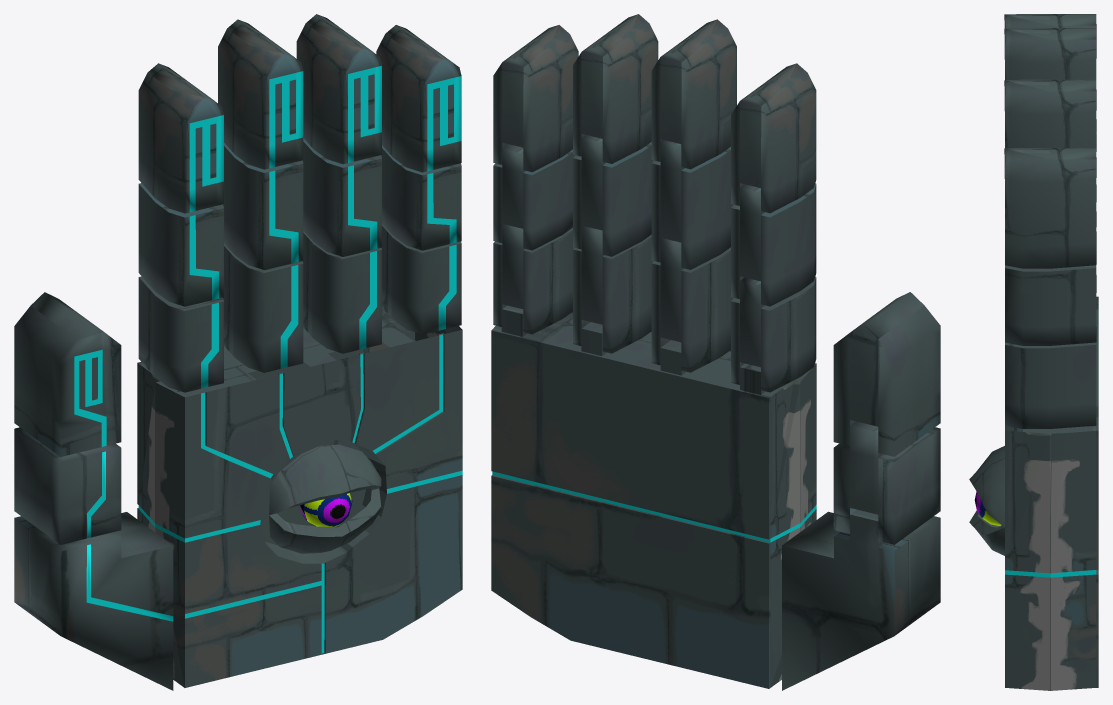
The model's file is Left hand.fbx.
The picture shows the model from 3 angles, left to right: view 1: azimuth 30°, elevation 25°; view 2: azimuth 150°, elevation 25°; view 3: azimuth 270°, elevation 25°; orthographic projection.
Visible parts, largest first — view 1: Hand, Muis, DuimVK2, WijsVK3, MVK3, WVK3, PVK3, DuimVK1, MVK1, MVK2, WijsVK2, Ooglid (+6 smaller); view 2: Hand, Muis, DuimVK2, WijsVK3, MVK3, WVK3, DuimVK1, PVK3, MVK1, MVK2, WijsVK2, WVK1 (+4 smaller); view 3: Hand, PVK3, PVK1, PVK2, WVK3, MVK3, Ooglid, WijsVK3, Pupil.
Boxes of the visible parts, left/top/right/bottom form: Hand: left=137, top=307, right=462, bottom=687; Muis: left=14, top=512, right=173, bottom=690; DuimVK2: left=14, top=292, right=121, bottom=456; WijsVK3: left=138, top=63, right=223, bottom=213; MVK3: left=218, top=19, right=303, bottom=169; WVK3: left=296, top=14, right=381, bottom=164; PVK3: left=376, top=25, right=461, bottom=172; DuimVK1: left=14, top=427, right=121, bottom=544; MVK1: left=223, top=243, right=303, bottom=372; MVK2: left=223, top=143, right=303, bottom=269; WijsVK2: left=138, top=183, right=223, bottom=306; Ooglid: left=269, top=444, right=381, bottom=553; Hand: left=491, top=305, right=816, bottom=688; Muis: left=782, top=509, right=940, bottom=690; DuimVK2: left=833, top=292, right=940, bottom=456; WijsVK3: left=731, top=63, right=816, bottom=213; MVK3: left=651, top=19, right=736, bottom=169; WVK3: left=573, top=14, right=658, bottom=163; DuimVK1: left=833, top=421, right=940, bottom=544; PVK3: left=493, top=25, right=578, bottom=172; MVK1: left=651, top=238, right=733, bottom=372; MVK2: left=651, top=139, right=733, bottom=269; WijsVK2: left=731, top=183, right=816, bottom=306; WVK1: left=573, top=226, right=653, bottom=353; Hand: left=1005, top=296, right=1098, bottom=690; PVK3: left=1004, top=148, right=1096, bottom=268; PVK1: left=1005, top=326, right=1096, bottom=428; PVK2: left=1005, top=249, right=1096, bottom=345; WVK3: left=1004, top=79, right=1096, bottom=148; MVK3: left=1004, top=28, right=1096, bottom=80; Ooglid: left=969, top=446, right=1004, bottom=555; WijsVK3: left=1004, top=14, right=1096, bottom=37; Pupil: left=974, top=491, right=1001, bottom=525.
Bounding box in the file's own units: 382 × 546 × 106.
Materials: 3 (2 with a texture image).
